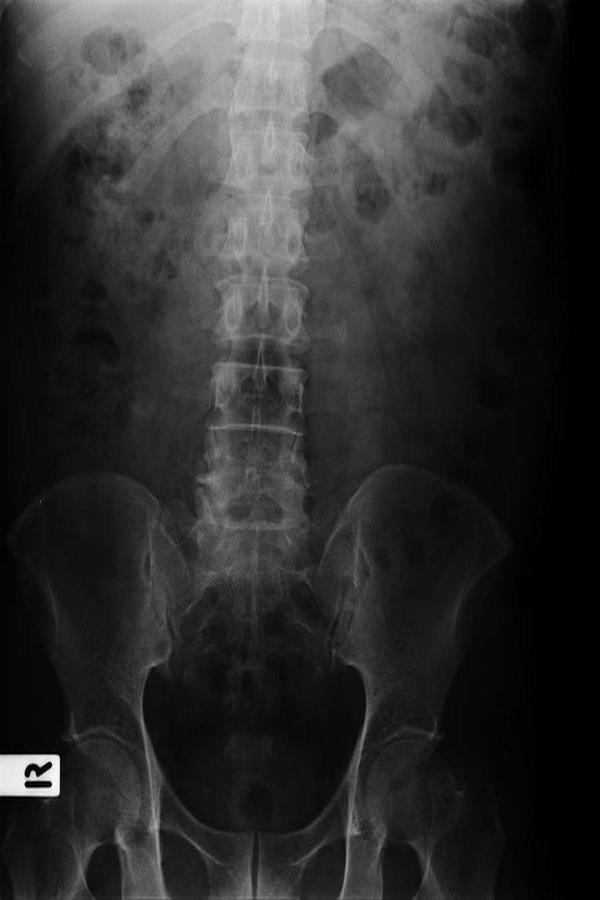lumbar scoliosis: (194, 6, 328, 602)
